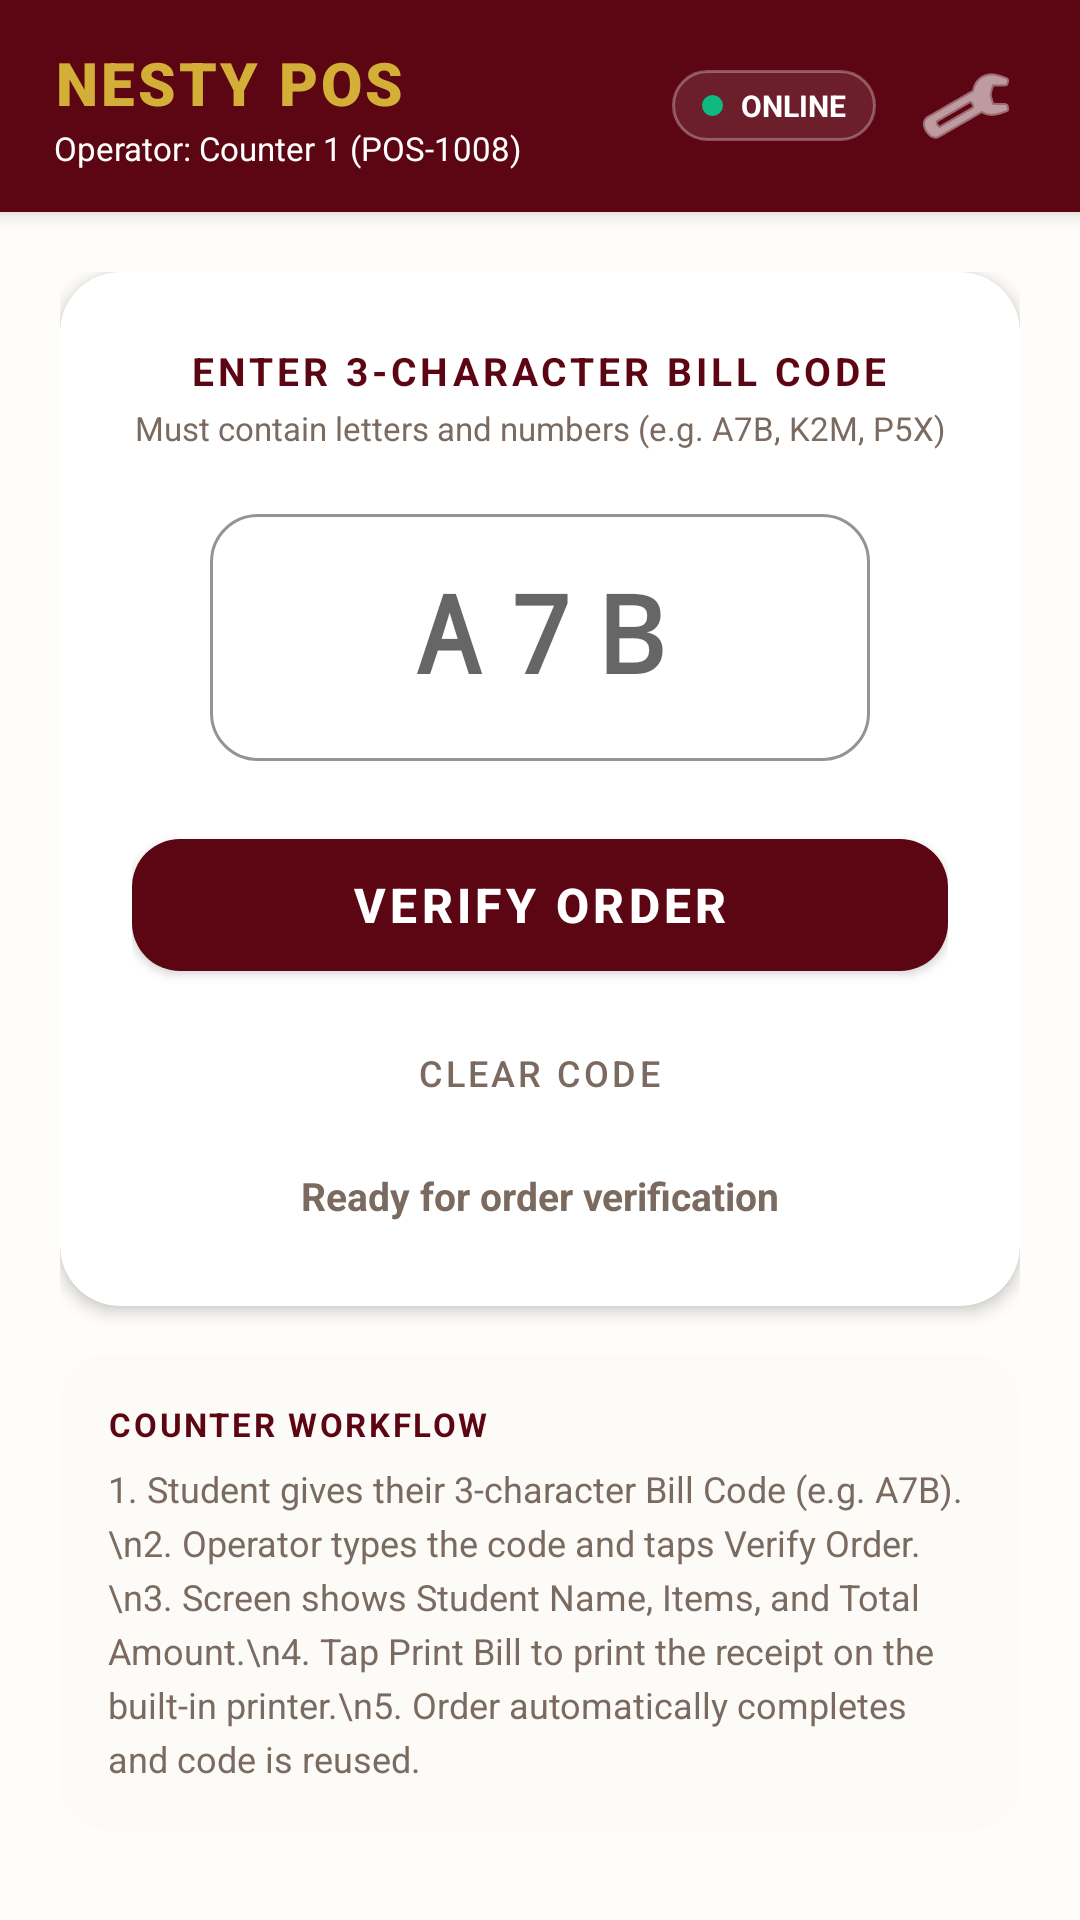

Named icons in this screenshot (1080 × 1920) and their centers, [x,y]:
Settings: [966,106]
